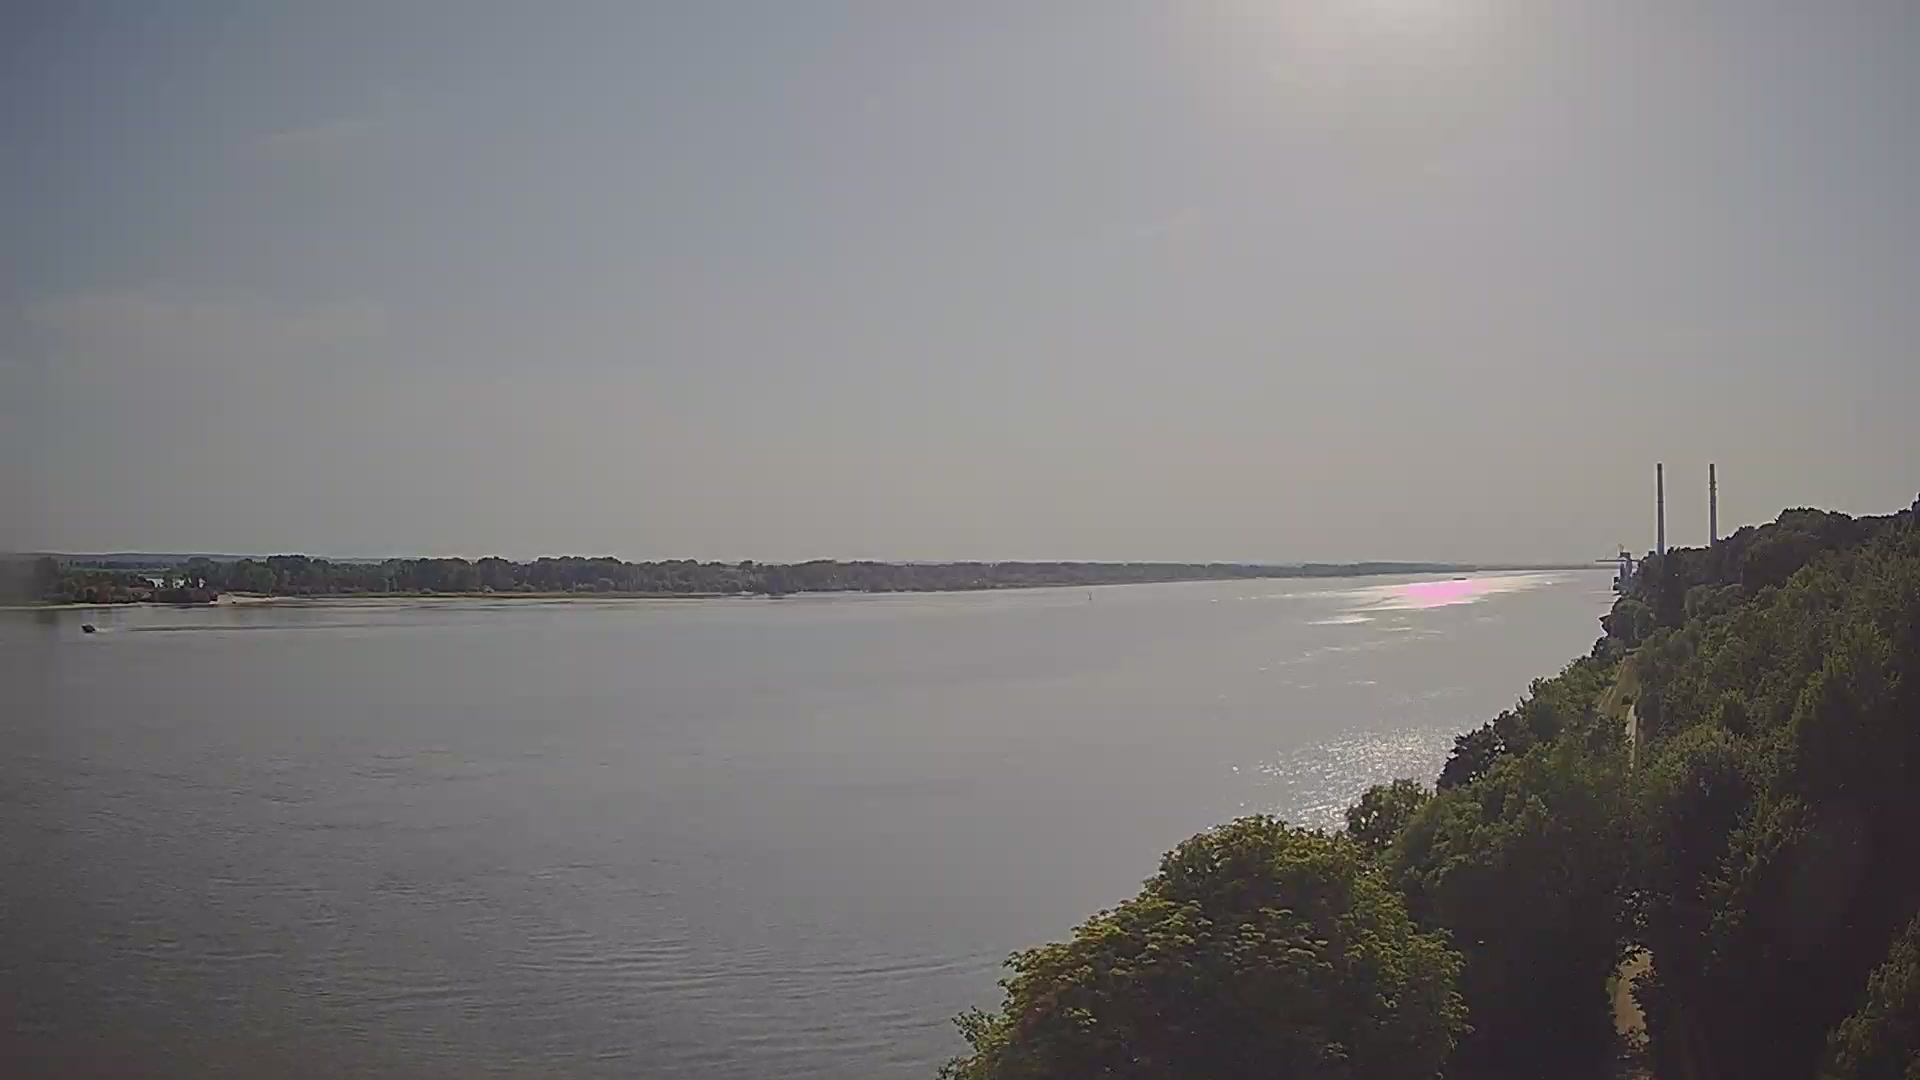sea: (80, 622, 98, 633)
